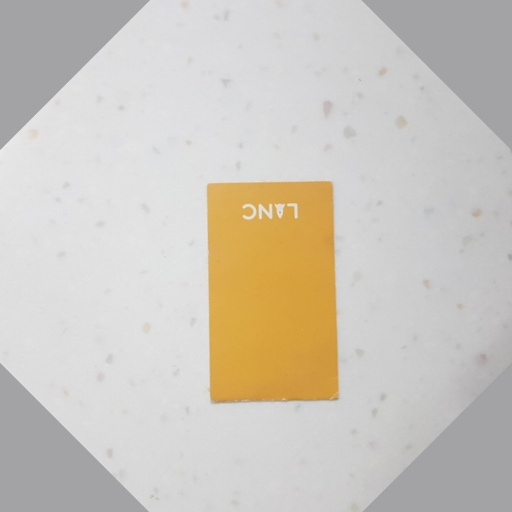Paper_2: (199, 173, 354, 410)
